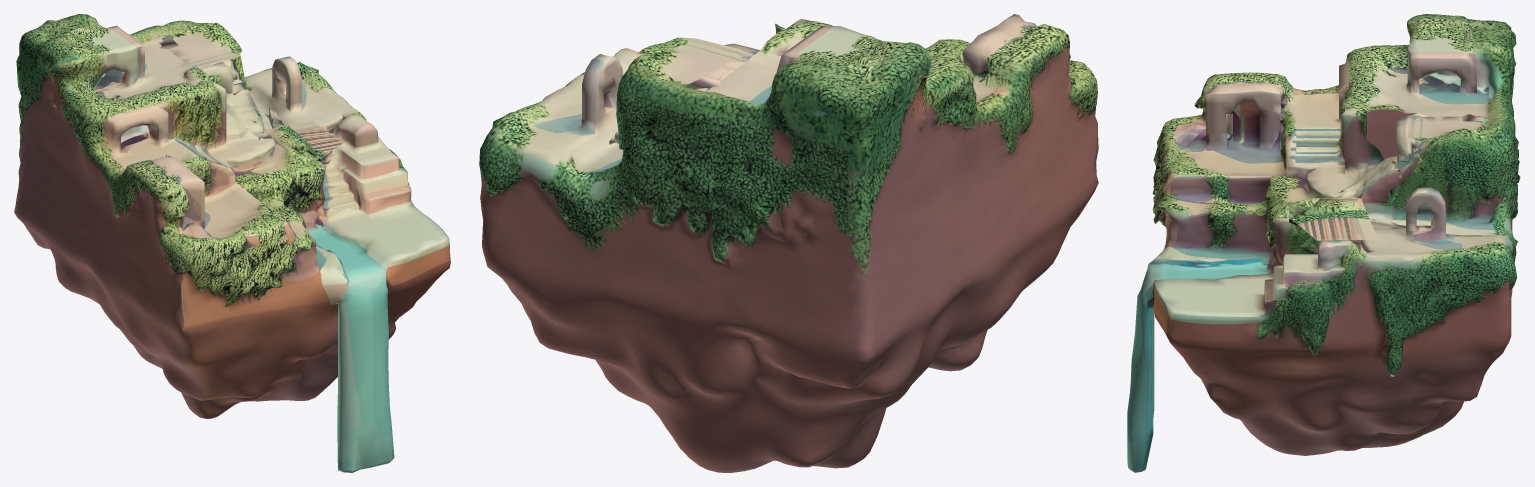
File: Habitat_7 2.glb
3 renders of one model, left to right at view 1: azimuth 30°, elevation 25°; view 2: azimuth 150°, elevation 25°; view 3: azimuth 270°, elevation 25°, orthographic. The views are drawn at different scales.
Size of the model in its own units: 1.64 by 1.89 by 1.84.
1 material, 1 textured.
